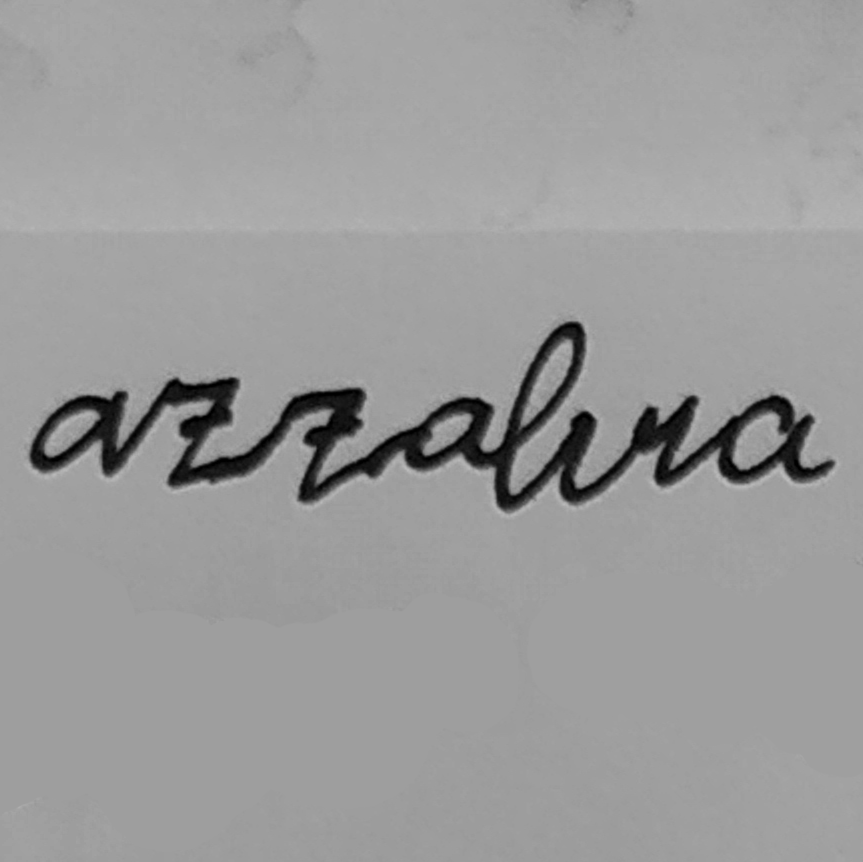a: (706, 385, 841, 492), (25, 382, 132, 485), (399, 387, 500, 479)
h: (490, 317, 606, 519)
r: (618, 386, 701, 499)
z: (274, 379, 380, 507), (150, 373, 248, 491)
